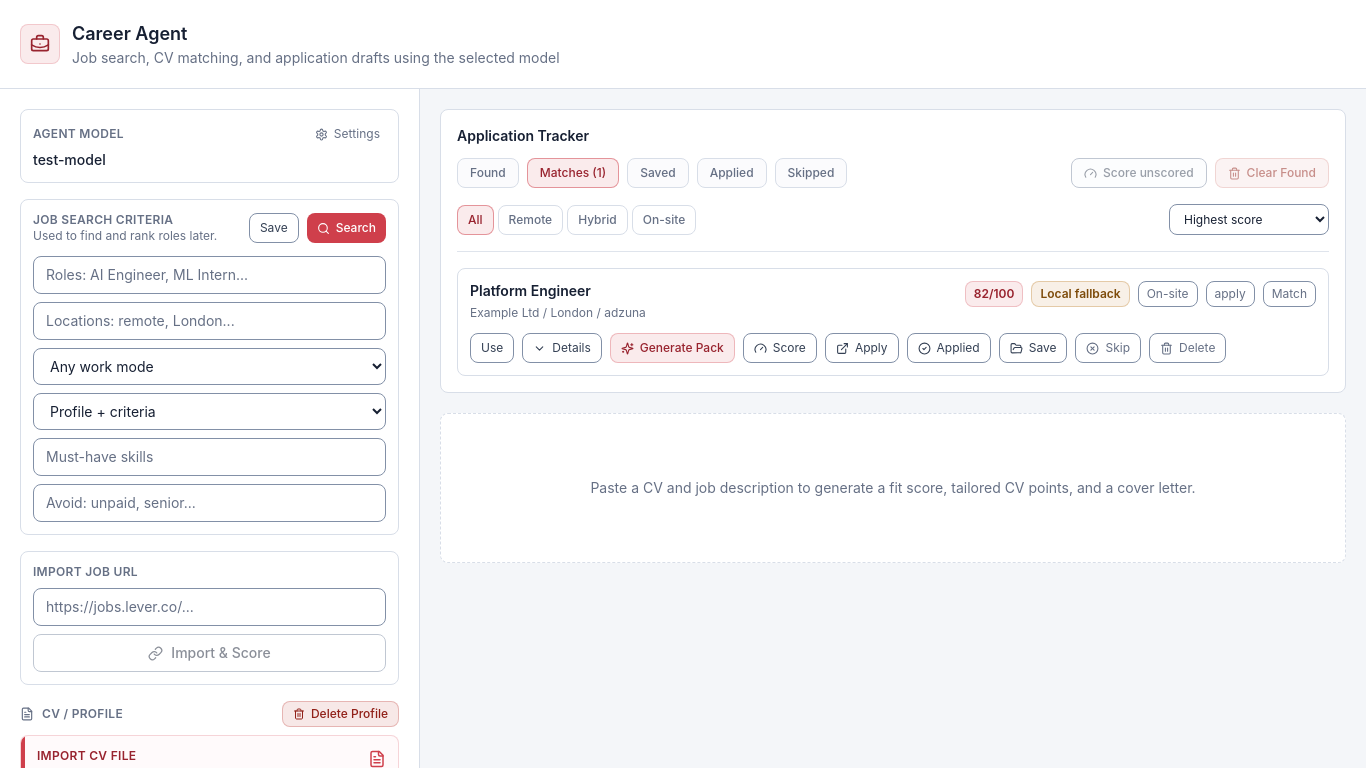
it: CareerPage tracker behavior › marks degraded scores on the card and explains them in Details
The image size is (1366, 768).
Check: the text "Local fallback" is shown, box [1032, 281, 1130, 307]
Click the button "Details": point(562, 348) [522, 333, 602, 363]
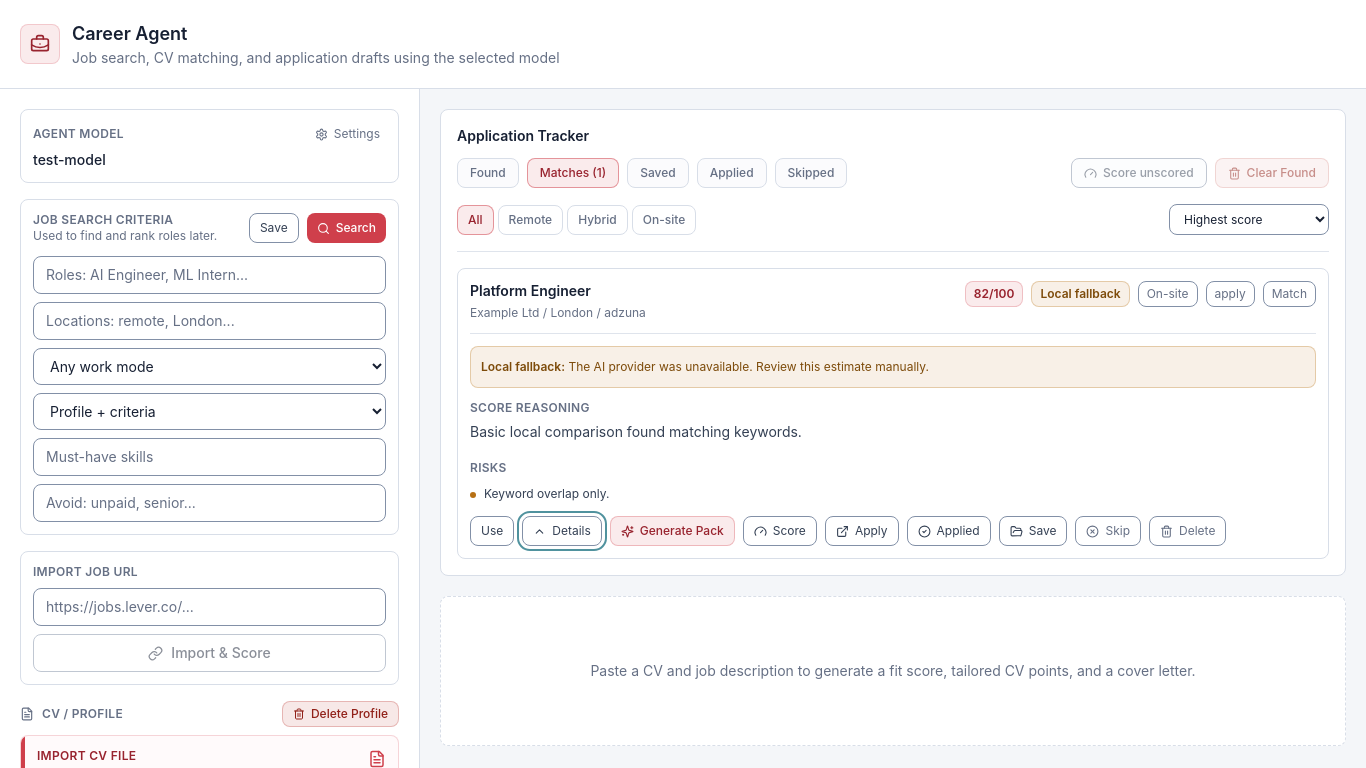
Check: the text "The AI provider was unavailable" is shown, box [568, 359, 929, 374]
Check: the text "Keyword overlap only." is shown, box [484, 484, 609, 504]
